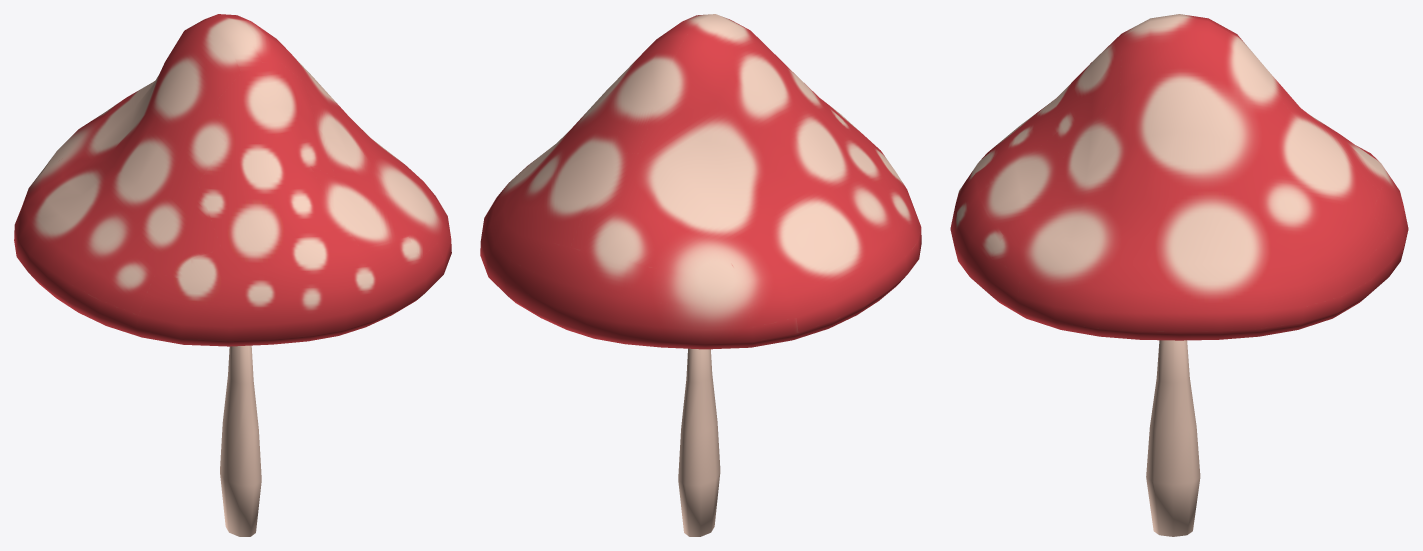
The model's file is Asset_mushroom.fbx.
The picture shows the model from 3 angles, left to right: view 1: azimuth 30°, elevation 25°; view 2: azimuth 150°, elevation 25°; view 3: azimuth 270°, elevation 25°; orthographic projection.
Visible parts, largest first — view 1: Roundcube.008; view 2: Roundcube.008; view 3: Roundcube.008.
Boxes of the visible parts, bbox=[...] form: Roundcube.008: bbox=[14, 14, 451, 536]; Roundcube.008: bbox=[480, 14, 921, 536]; Roundcube.008: bbox=[950, 14, 1408, 536].
Size of the model in its own units: 153 by 199 by 162.
Materials: 1 (1 with a texture image).
